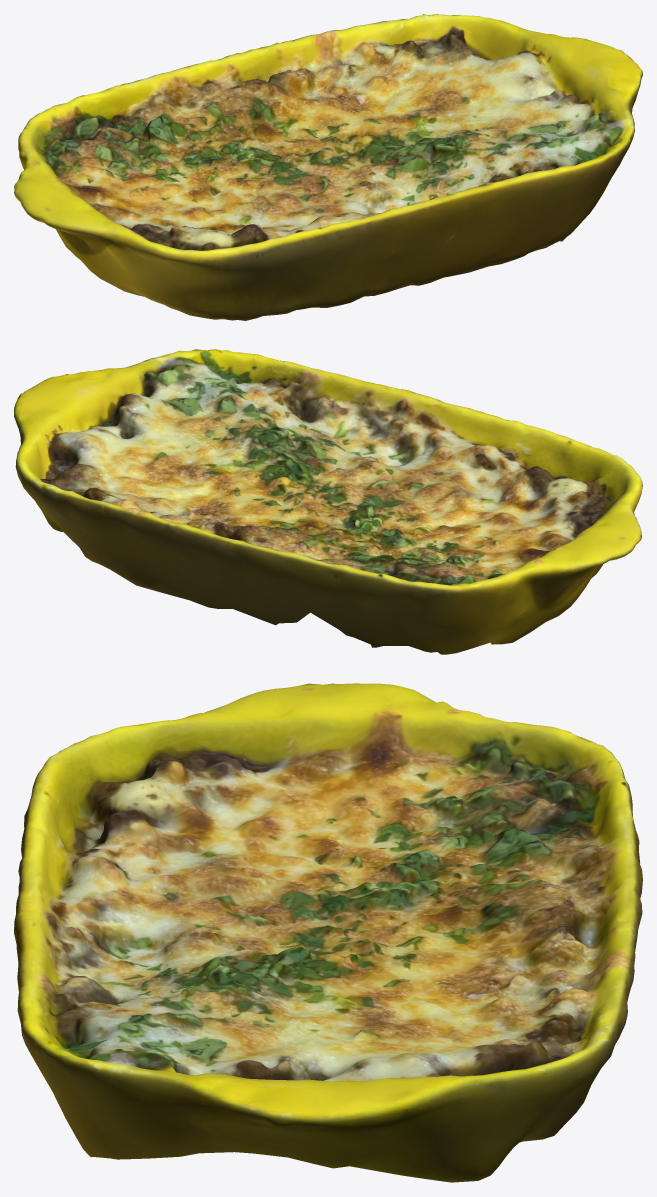
Rendered from lasagne.glb.
The picture shows the model from 3 angles, top to bottom: view 1: azimuth 30°, elevation 25°; view 2: azimuth 150°, elevation 25°; view 3: azimuth 270°, elevation 25°; orthographic projection. The views are drawn at different scales.
Visible parts, largest first — view 1: /ObjectCapture/Geometry/Mesh; view 2: /ObjectCapture/Geometry/Mesh; view 3: /ObjectCapture/Geometry/Mesh.
Boxes of the visible parts, bbox=[...] form: /ObjectCapture/Geometry/Mesh: bbox=[14, 14, 642, 320]; /ObjectCapture/Geometry/Mesh: bbox=[14, 349, 642, 654]; /ObjectCapture/Geometry/Mesh: bbox=[14, 683, 642, 1182].
Size of the model in its own units: 0.232 by 0.0399 by 0.1371.
Materials: 1 (1 with a texture image).
